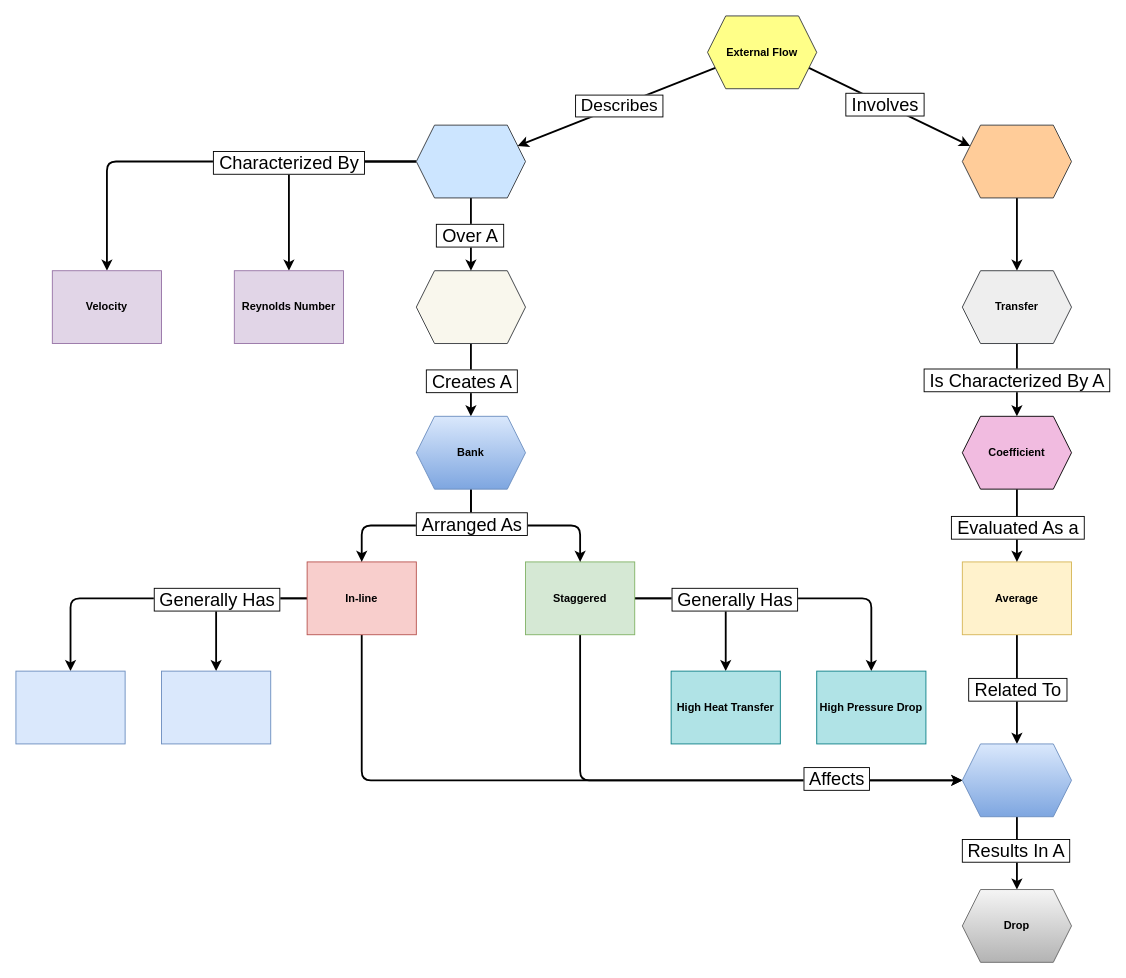
The diagram is 1126 pixels wide and 978 high, and some of its shapes have lost their labels. Each missing label, with the centre of its shape:
"Flow" goes at point (470, 161).
"Heat" goes at point (1016, 161).
"Low Heat Transfer" goes at point (70, 707).
"Low Pressure Drop" goes at point (216, 707).
"Pressure" goes at point (1016, 780).
"Tube" goes at point (470, 307).
